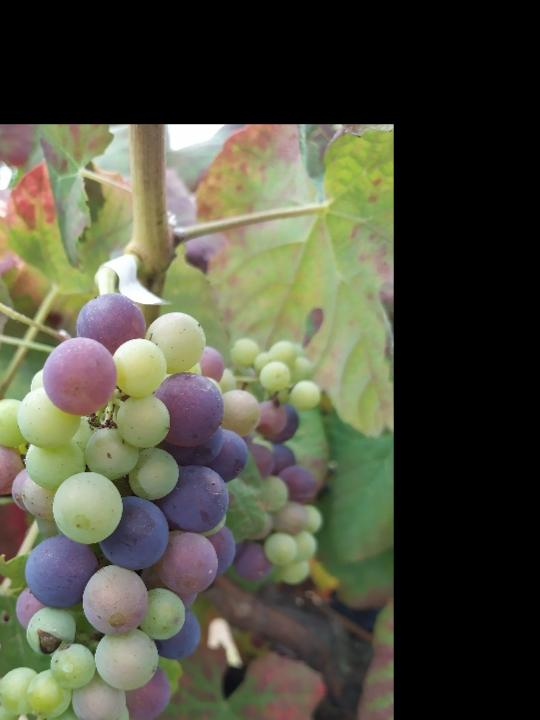grape: (0, 290, 252, 720)
